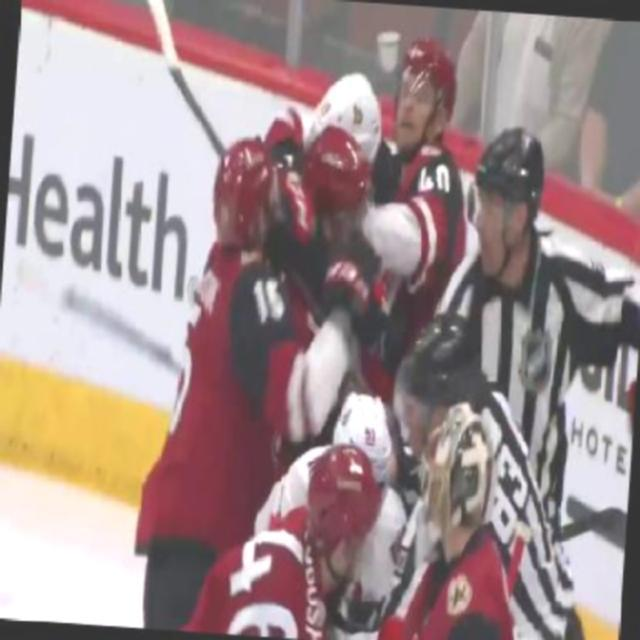fight: (178, 32, 472, 460)
